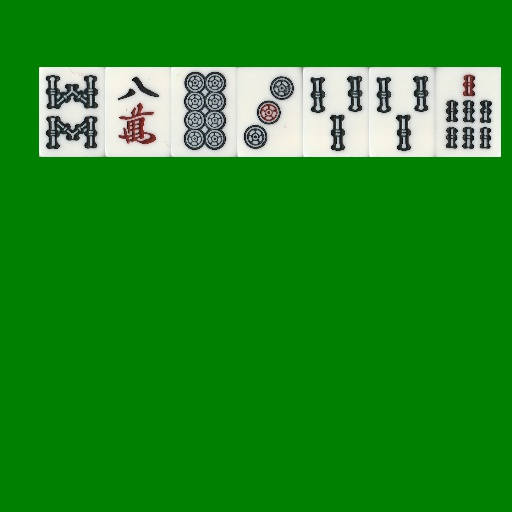3p: (237, 67, 303, 157)
3s: (303, 67, 369, 157), (369, 67, 435, 157)
7s: (435, 67, 501, 157)
8m: (105, 67, 171, 157)
8p: (171, 67, 237, 157)
8s: (39, 67, 105, 157)
